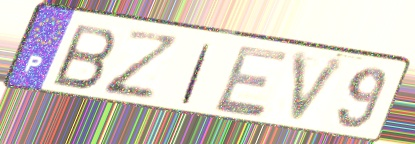9: (333, 65, 389, 132)
B: (50, 21, 120, 92)
E: (211, 43, 292, 120)
I: (177, 41, 215, 107)
V: (283, 49, 352, 129)
Z: (99, 27, 185, 102)
